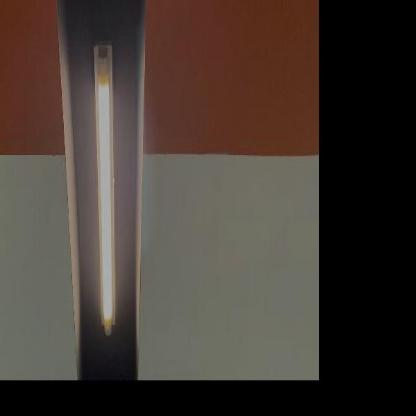light_on: (86, 40, 124, 341)
